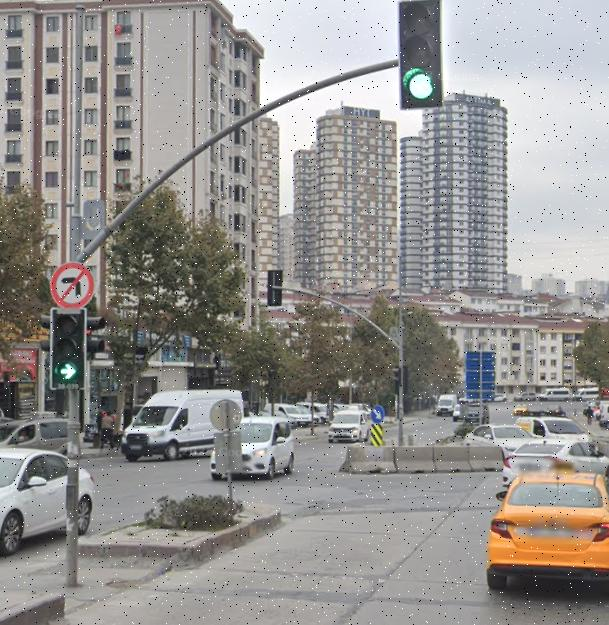greenlight: (397, 0, 444, 109), (49, 306, 86, 385)
leftturnsareforbidden: (54, 264, 92, 305)
